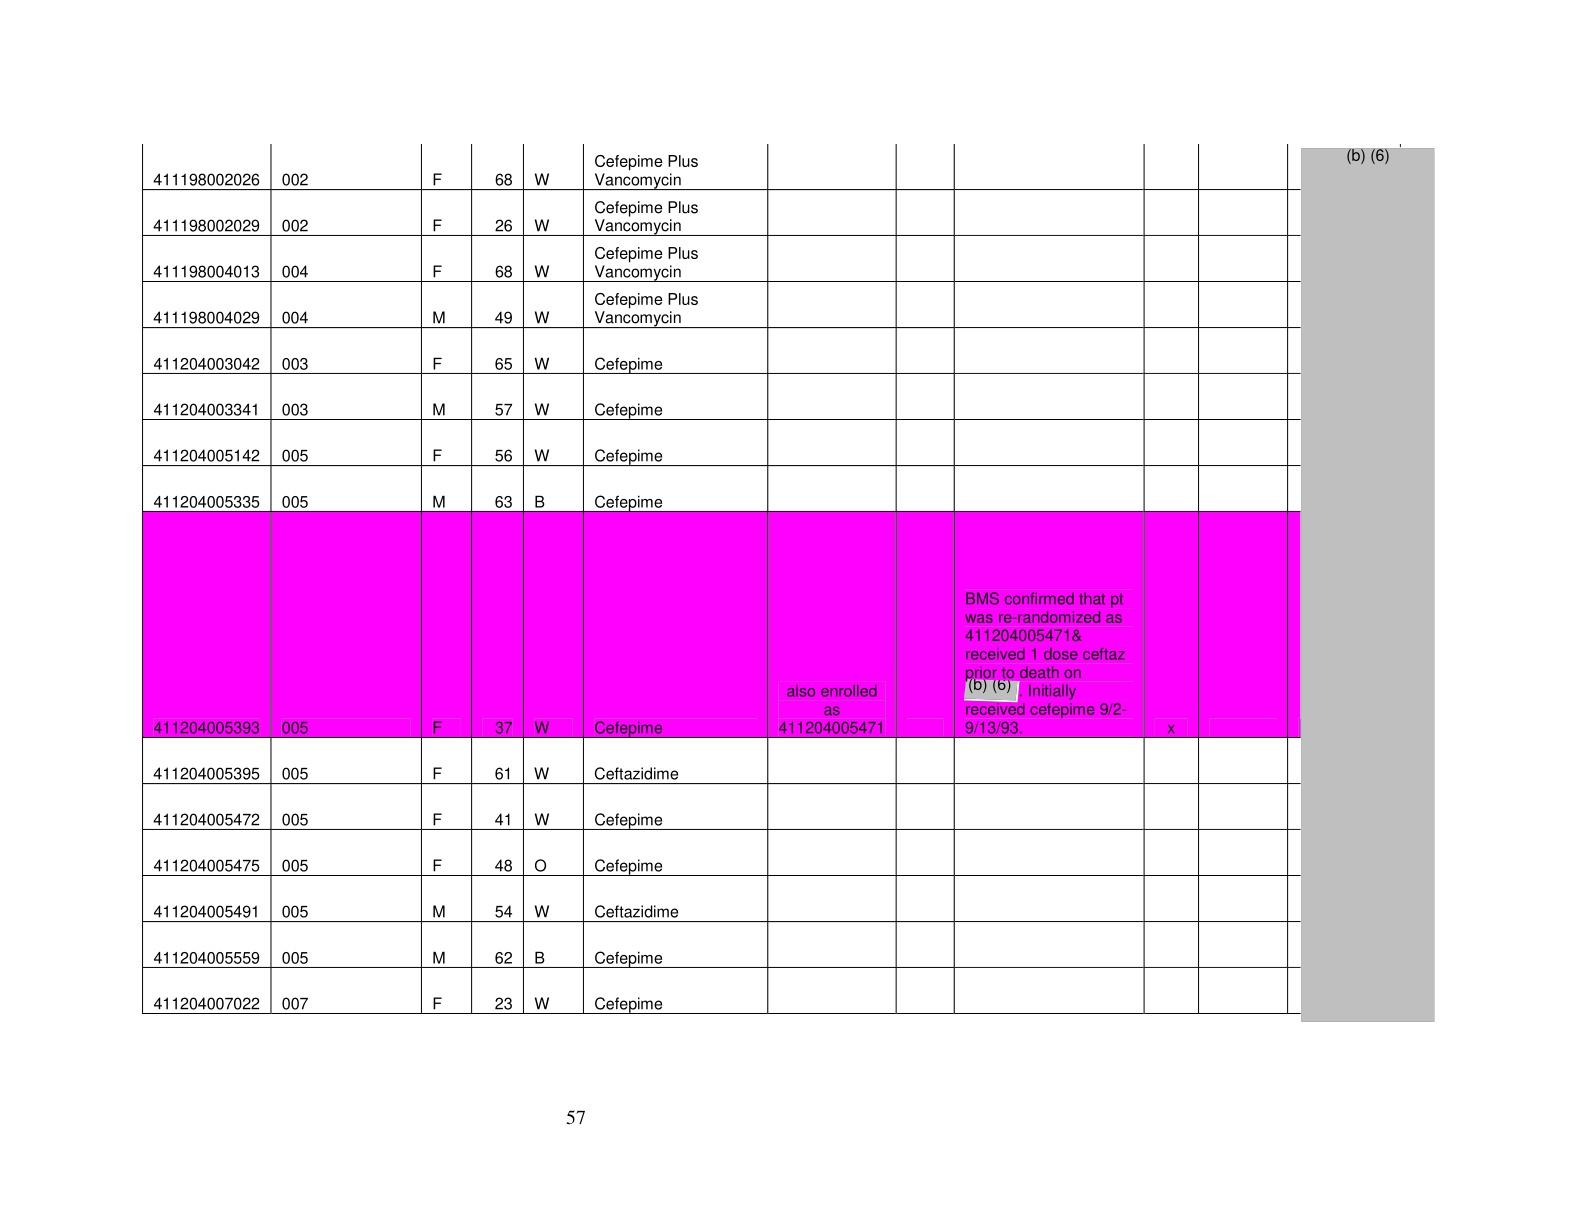partial_lined: (139, 138, 1306, 1016)
